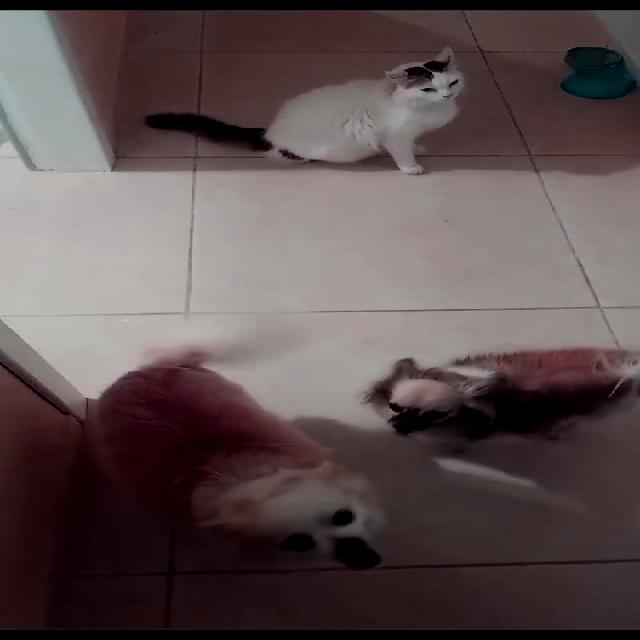Pedrita: (362, 291, 638, 438)
Theo: (72, 324, 398, 578)
